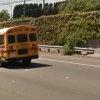Bus: (3, 22, 43, 72)
